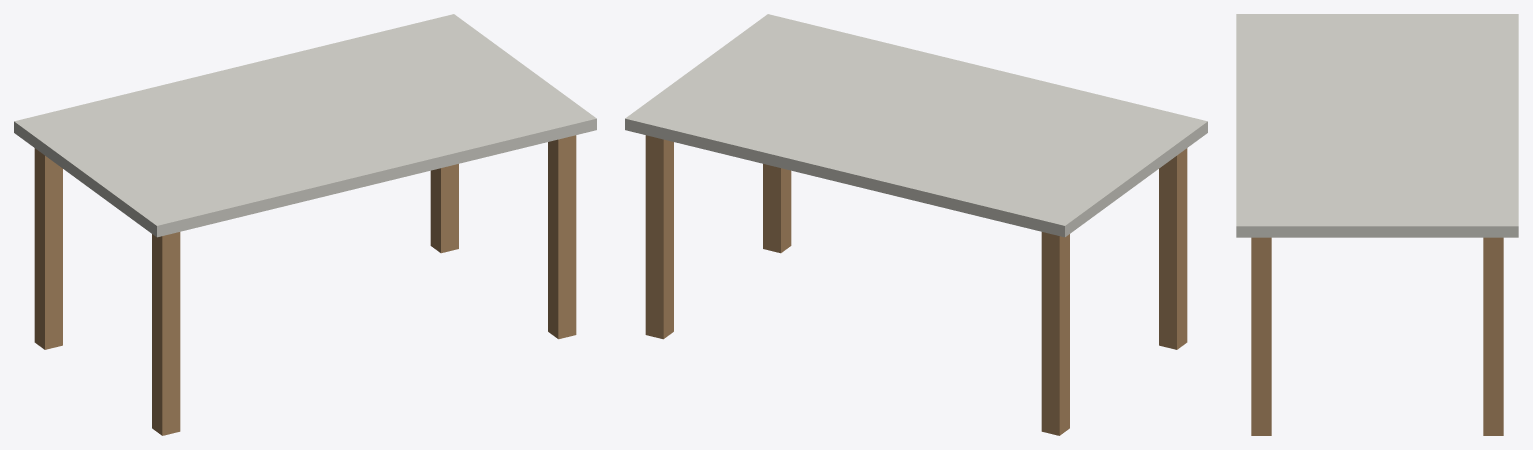
The picture shows the model from 3 angles, left to right: view 1: azimuth 30°, elevation 25°; view 2: azimuth 150°, elevation 25°; view 3: azimuth 270°, elevation 25°; orthographic projection.
Visible parts, largest first — view 1: Worktop, Leg_0_0, Leg_1_0, Leg_0_1, Leg_1_1; view 2: Worktop, Leg_0_1, Leg_1_1, Leg_0_0, Leg_1_0; view 3: Worktop, Leg_1_0, Leg_1_1.
Part boxes in pixels (x1,y1,x2,y2): Worktop: (14, 14, 596, 237); Leg_0_0: (152, 232, 180, 435); Leg_1_0: (548, 135, 576, 339); Leg_0_1: (34, 148, 62, 349); Leg_1_1: (430, 164, 458, 253); Worktop: (625, 14, 1207, 237); Leg_0_1: (1041, 232, 1069, 435); Leg_1_1: (645, 135, 673, 339); Leg_0_0: (1159, 148, 1187, 349); Leg_1_0: (763, 164, 791, 253); Worktop: (1236, 14, 1518, 237); Leg_1_0: (1251, 237, 1271, 435); Leg_1_1: (1483, 237, 1503, 435).
Size of the model in its own units: 1.6 by 0.76 by 0.9.
